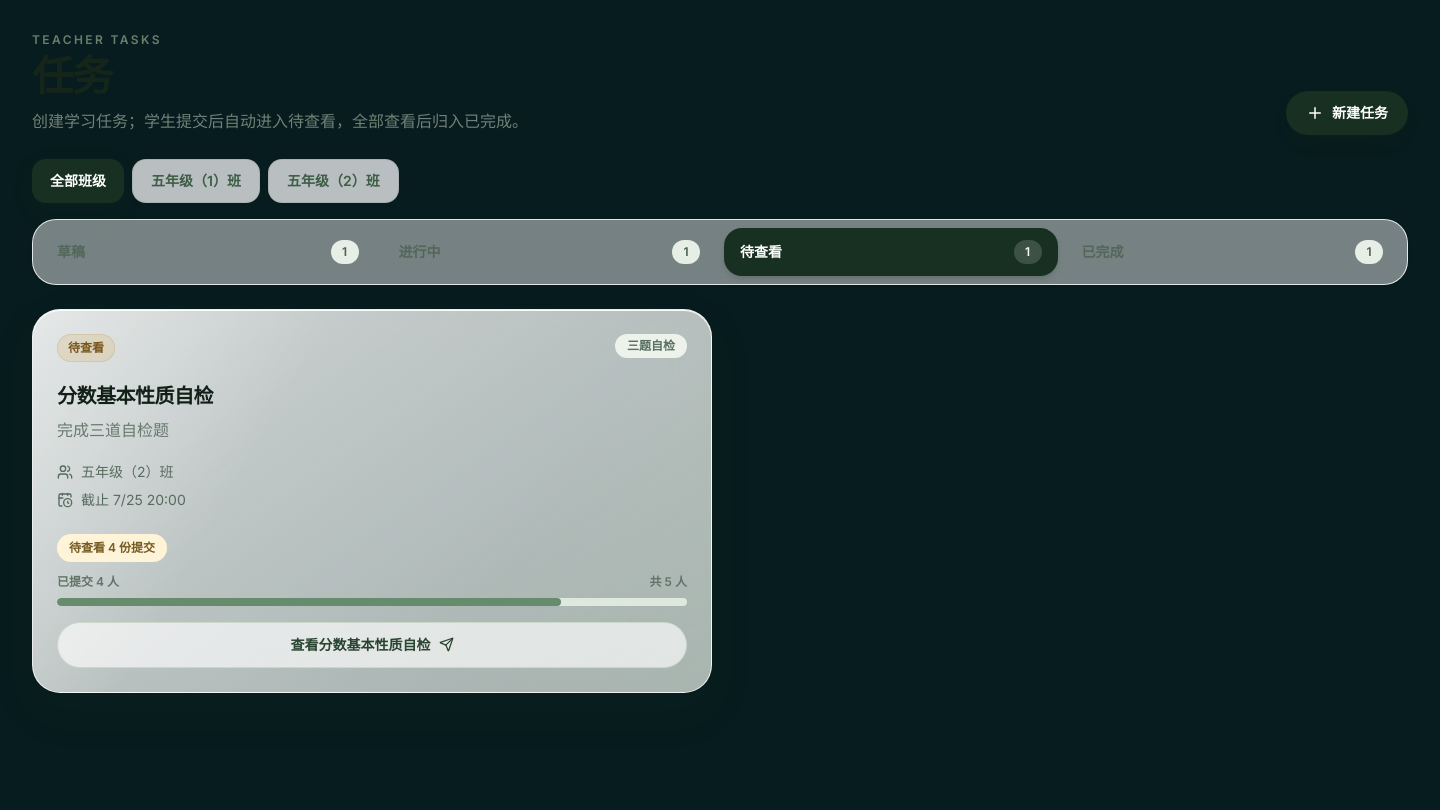
Test case: TasksPage › sends a reminder from an active task and announces it with ToastRegion
What coordinates should you click on to do the following:
click the button "进行中 1"
I would click on:
 (420, 251)
Its box is [382,228,716,276].
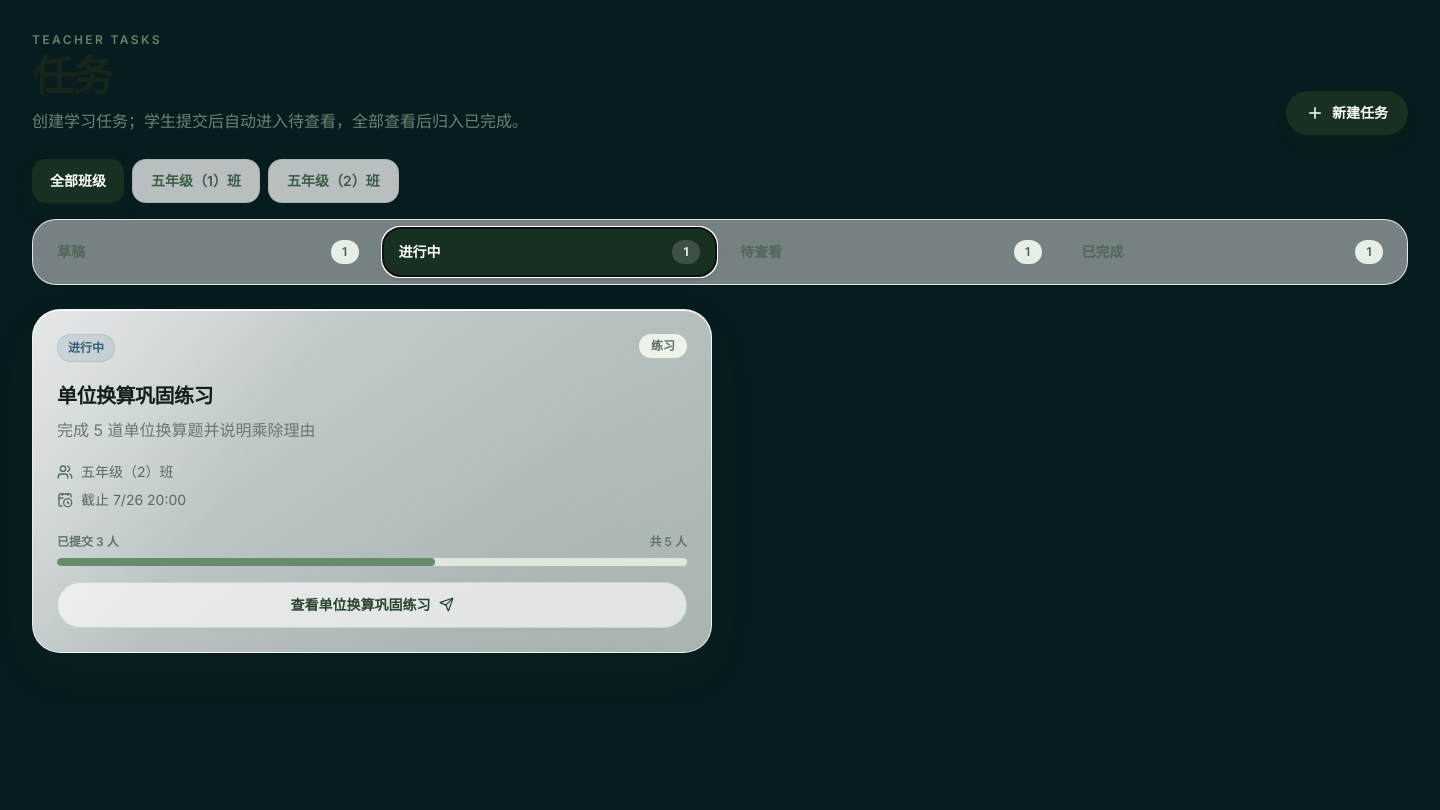
What coordinates should you click on to do the following:
click the button "查看单位换算巩固练习"
I would click on:
 (372, 605)
Its box is [57,582,687,628].
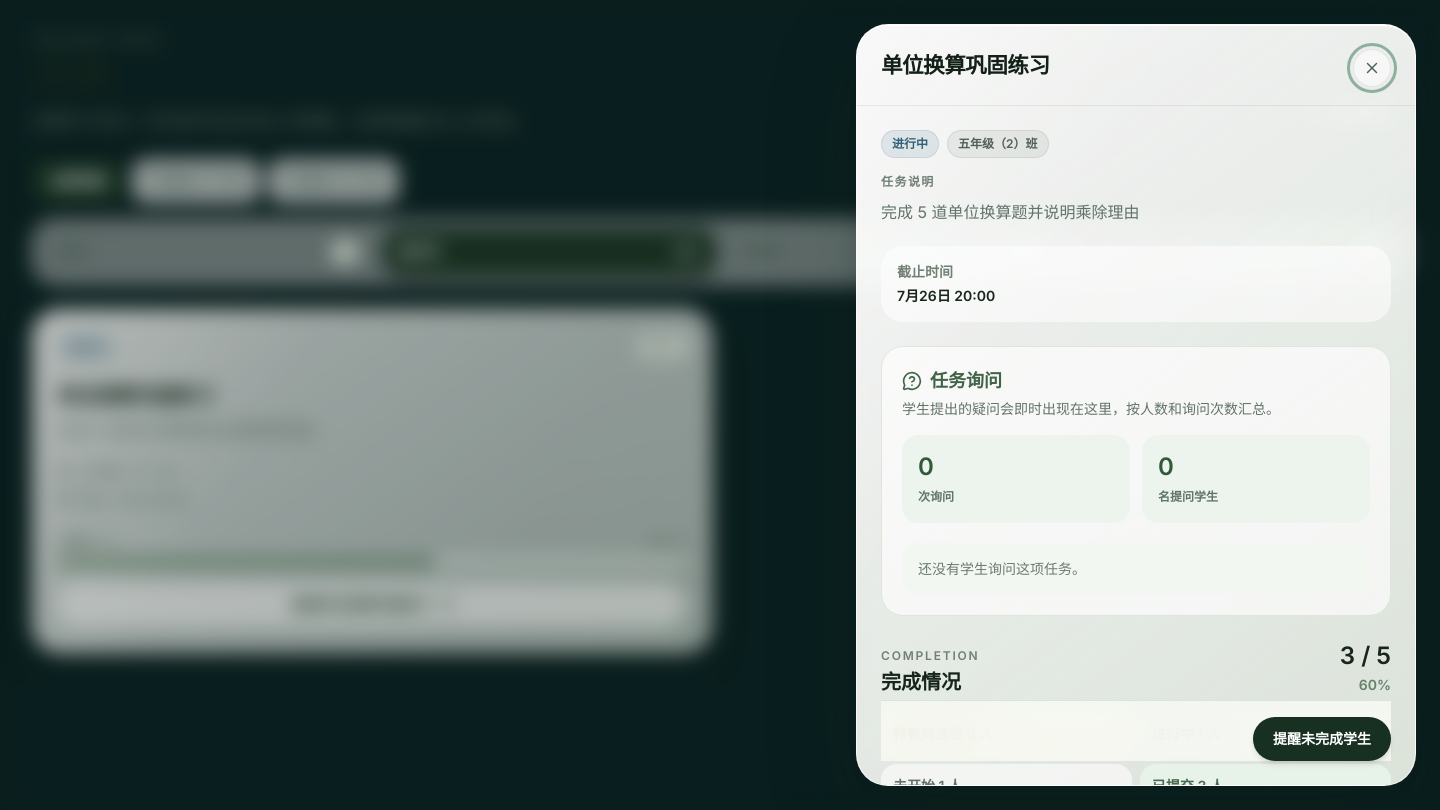
What coordinates should you click on to do the following:
click the button "提醒未完成学生"
I would click on:
 (1322, 739)
Its box is [1253,717,1391,761].
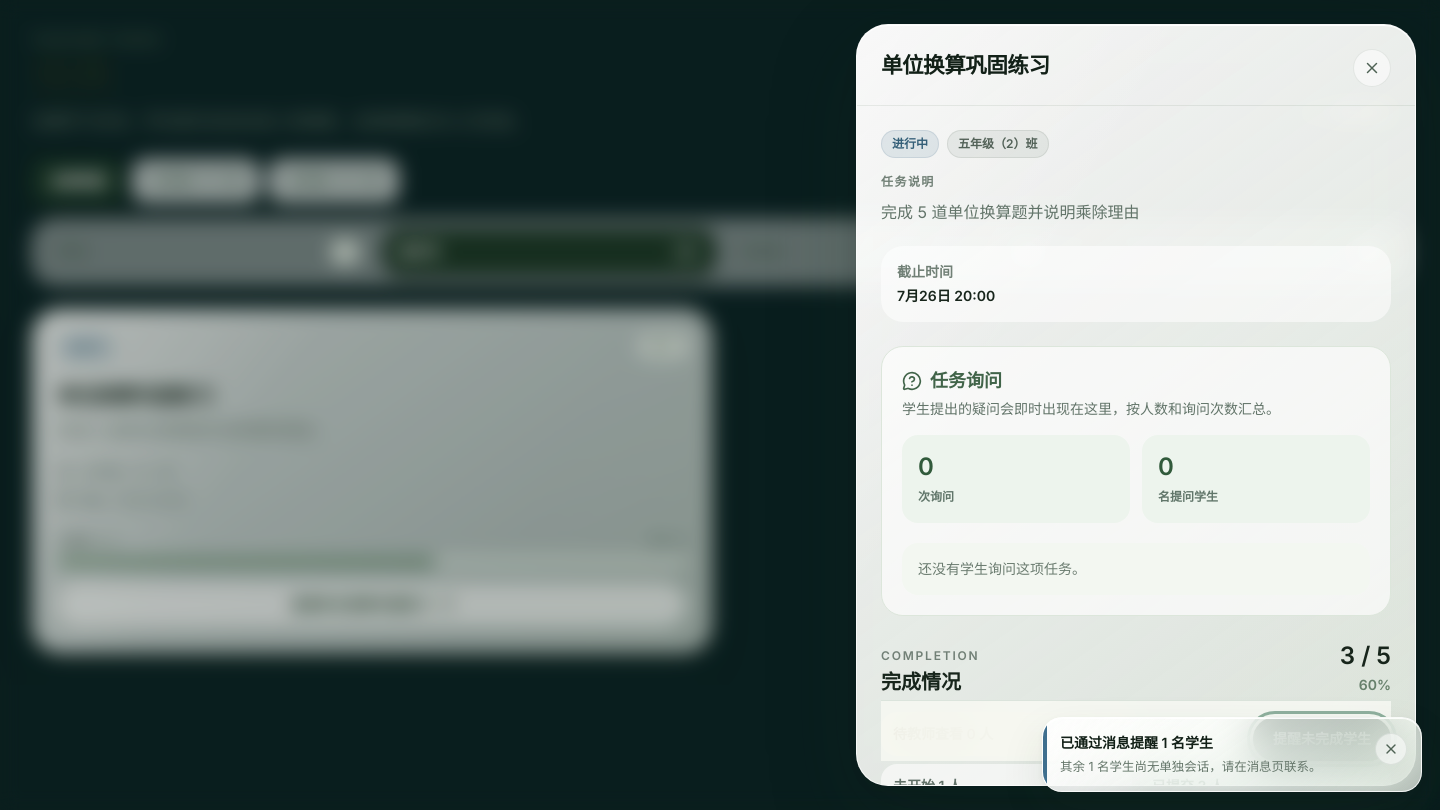
Result: the message reads "已通过消息提醒 1 名学生 其余 1 名学生尚无单独会话，请在消息页联系。" at [1060,734,1213,751]
